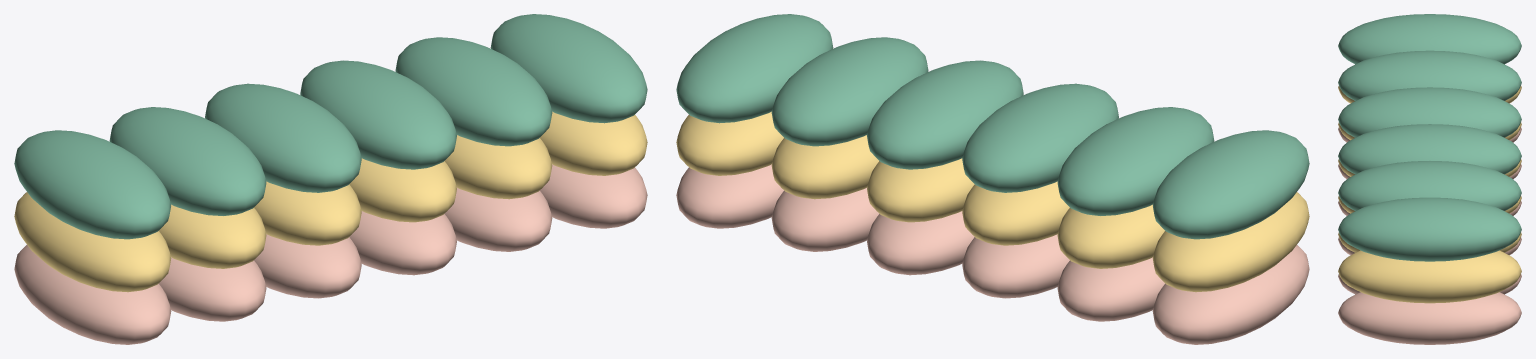
File: barrier.glb
The picture shows the model from 3 angles, left to right: view 1: azimuth 30°, elevation 25°; view 2: azimuth 150°, elevation 25°; view 3: azimuth 270°, elevation 25°; orthographic projection. The views are drawn at different scales.
Parts seen in each view (by area): view 1: Packed barrier cell 13, Packed barrier cell 17, Packed barrier cell 16, Packed barrier cell 15, Packed barrier cell 18, Packed barrier cell 14, Packed barrier cell 1, Packed barrier cell 7, Packed barrier cell 3, Packed barrier cell 6, Packed barrier cell 2, Packed barrier cell 4 (+6 smaller); view 2: Packed barrier cell 13, Packed barrier cell 17, Packed barrier cell 16, Packed barrier cell 15, Packed barrier cell 18, Packed barrier cell 14, Packed barrier cell 1, Packed barrier cell 7, Packed barrier cell 3, Packed barrier cell 6, Packed barrier cell 2, Packed barrier cell 4 (+6 smaller); view 3: Packed barrier cell 18, Packed barrier cell 12, Packed barrier cell 6, Packed barrier cell 15, Packed barrier cell 13, Packed barrier cell 16, Packed barrier cell 14, Packed barrier cell 17, Packed barrier cell 5, Packed barrier cell 11, Packed barrier cell 8, Packed barrier cell 9 (+3 smaller).
Part boxes in pixels (x1,y1,x2,y2): Packed barrier cell 13: (14,130,170,239); Packed barrier cell 17: (395,37,552,146); Packed barrier cell 16: (300,60,456,169); Packed barrier cell 15: (205,83,361,192); Packed barrier cell 18: (490,14,647,123); Packed barrier cell 14: (109,107,266,215); Packed barrier cell 1: (14,245,171,344); Packed barrier cell 7: (14,192,171,292); Packed barrier cell 3: (254,234,361,298); Packed barrier cell 6: (540,164,647,228); Packed barrier cell 2: (159,257,266,321); Packed barrier cell 4: (349,211,456,275); Packed barrier cell 13: (1153,130,1309,239); Packed barrier cell 17: (771,37,928,146); Packed barrier cell 16: (867,60,1023,169); Packed barrier cell 15: (962,83,1118,192); Packed barrier cell 18: (676,14,833,123); Packed barrier cell 14: (1057,107,1214,215); Packed barrier cell 1: (1152,245,1309,344); Packed barrier cell 7: (1152,192,1309,292); Packed barrier cell 3: (962,234,1069,298); Packed barrier cell 6: (676,164,783,228); Packed barrier cell 2: (1057,257,1164,321); Packed barrier cell 4: (867,211,974,275); Packed barrier cell 18: (1338,197,1521,261); Packed barrier cell 12: (1338,250,1521,303); Packed barrier cell 6: (1338,292,1521,344); Packed barrier cell 15: (1338,87,1521,137); Packed barrier cell 13: (1338,14,1521,64); Packed barrier cell 16: (1338,124,1521,174); Packed barrier cell 14: (1338,50,1521,100); Packed barrier cell 17: (1338,161,1521,210); Packed barrier cell 5: (1338,274,1521,294); Packed barrier cell 11: (1338,232,1521,252); Packed barrier cell 8: (1338,122,1521,140); Packed barrier cell 9: (1338,159,1521,176).
Size of the model in its own units: 0.519 by 0.144 by 0.18.
